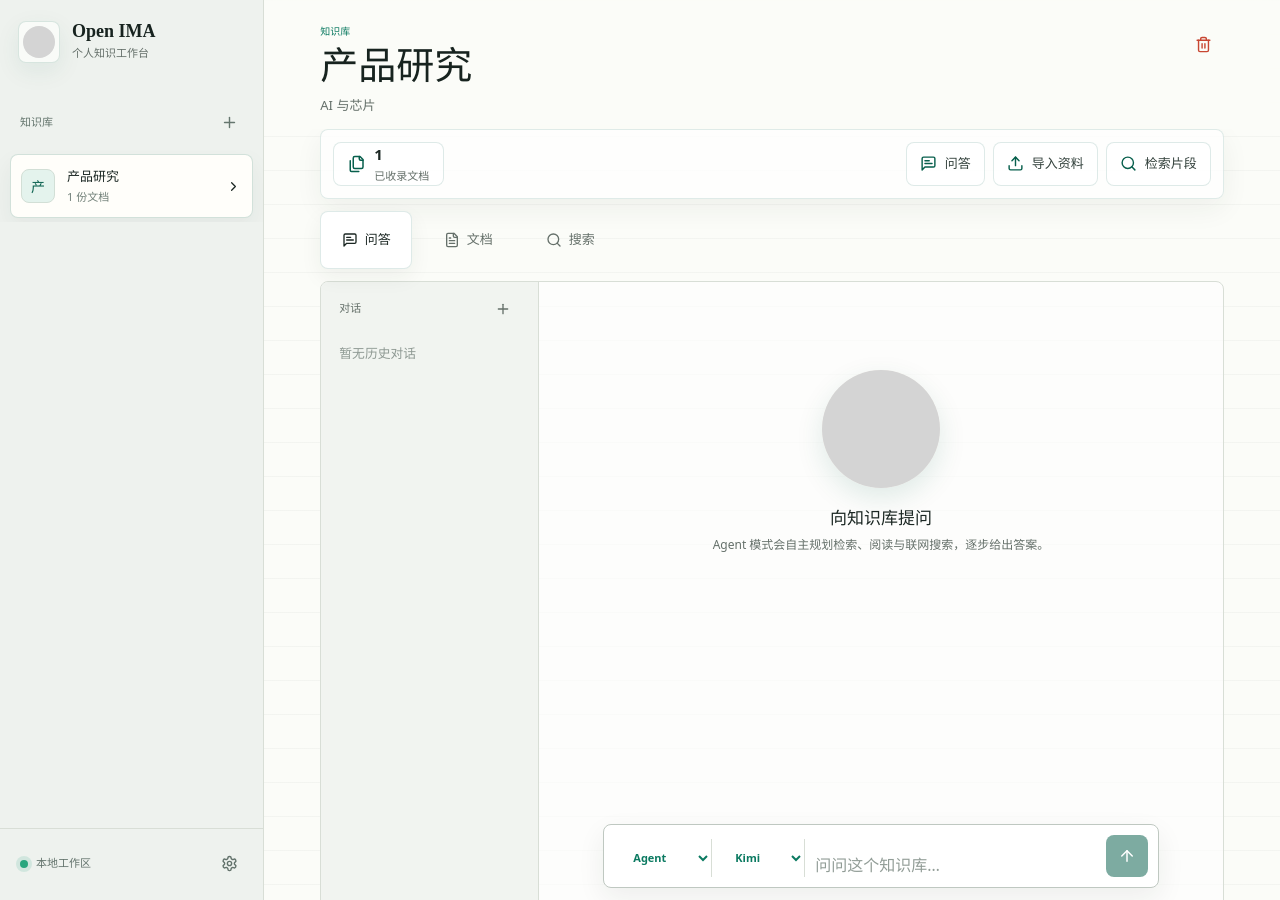
Test: App › loads the selected knowledge base and documents
Expected: the heading "产品研究" is shown, left=320, top=45, right=472, bottom=87
Expected: the heading "向知识库提问" is shown, left=830, top=504, right=932, bottom=529
Click the tab "文档": [468, 240] box left=422, top=211, right=514, bottom=269
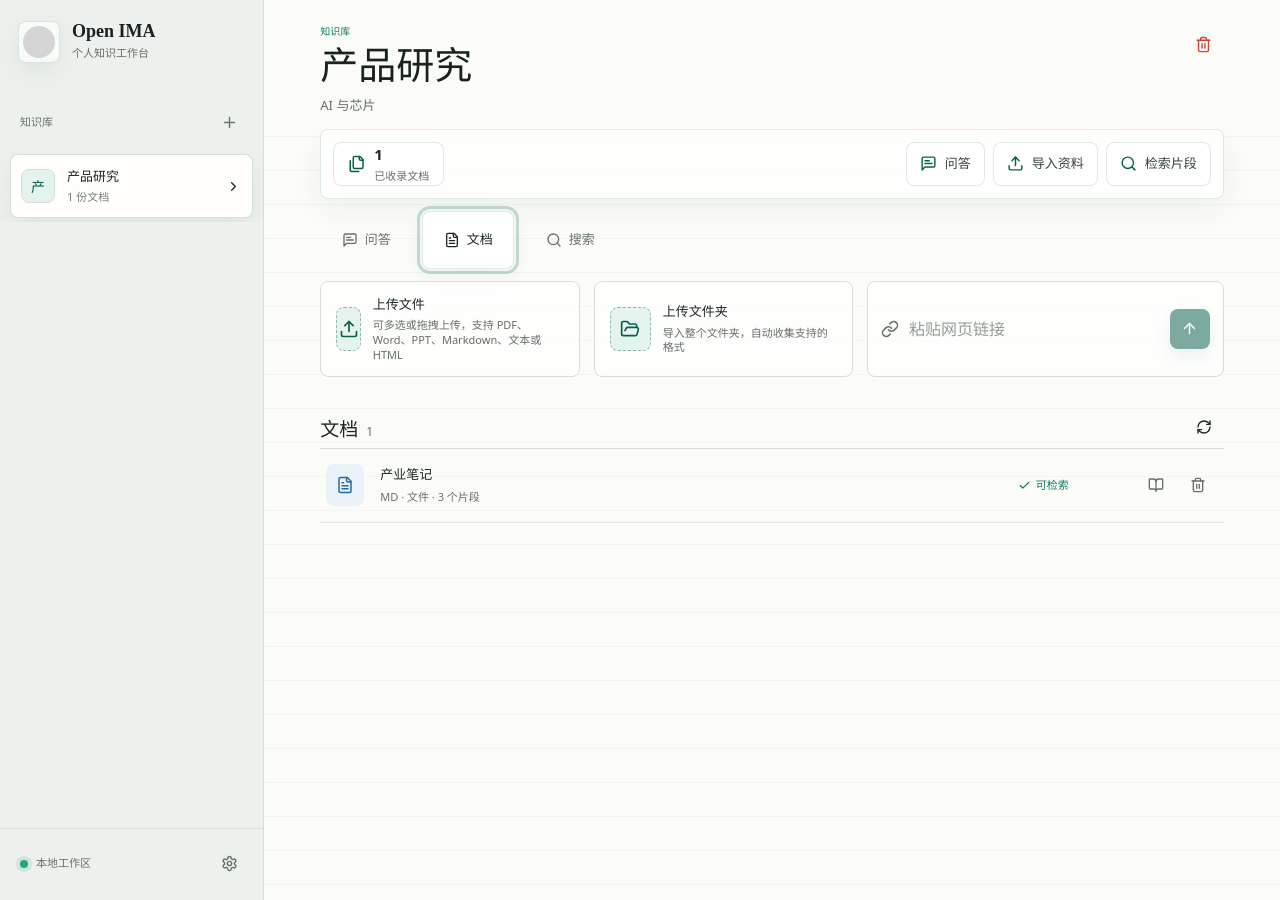
Now the text "产业笔记" is shown, box left=380, top=465, right=432, bottom=483
Now the text "3 个片段" is shown, box left=429, top=489, right=480, bottom=504
